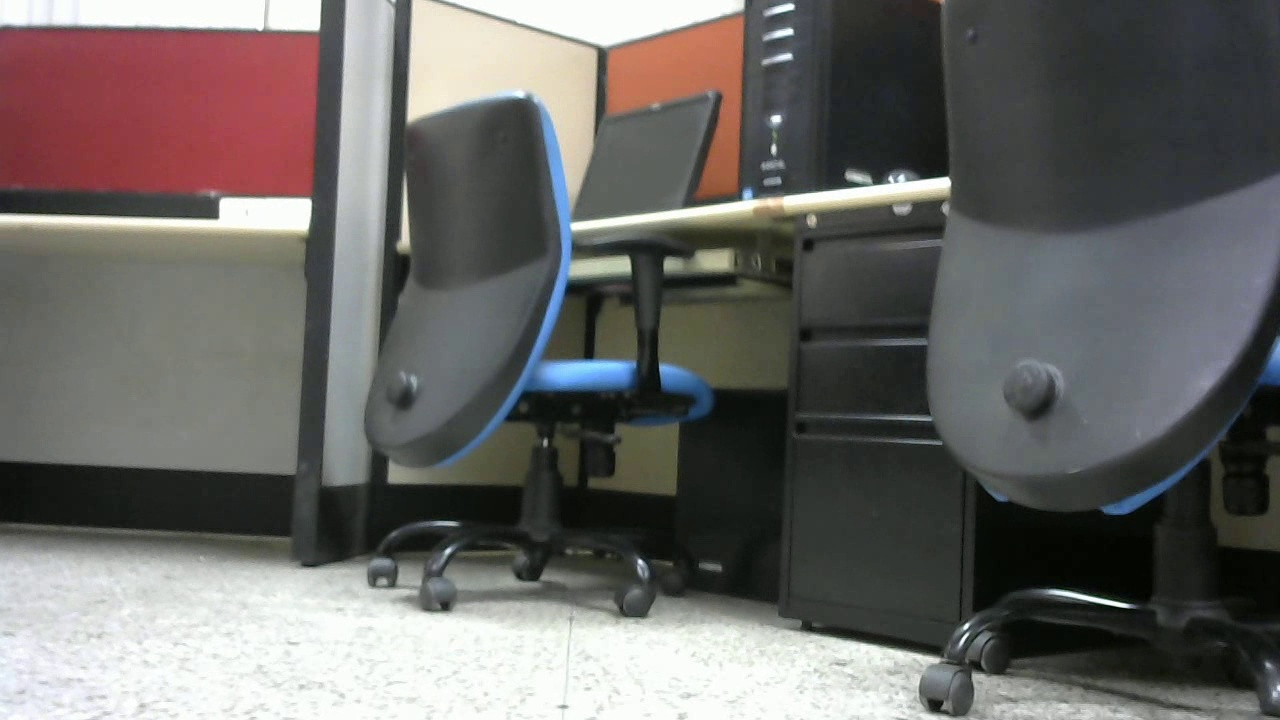chair: (356, 82, 722, 619)
